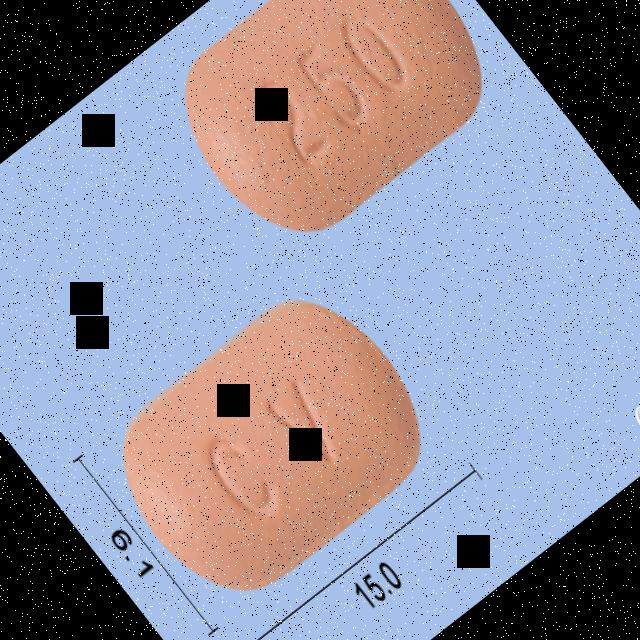Cravit - 500mg: (90, 269, 453, 621), (149, 0, 517, 264)
